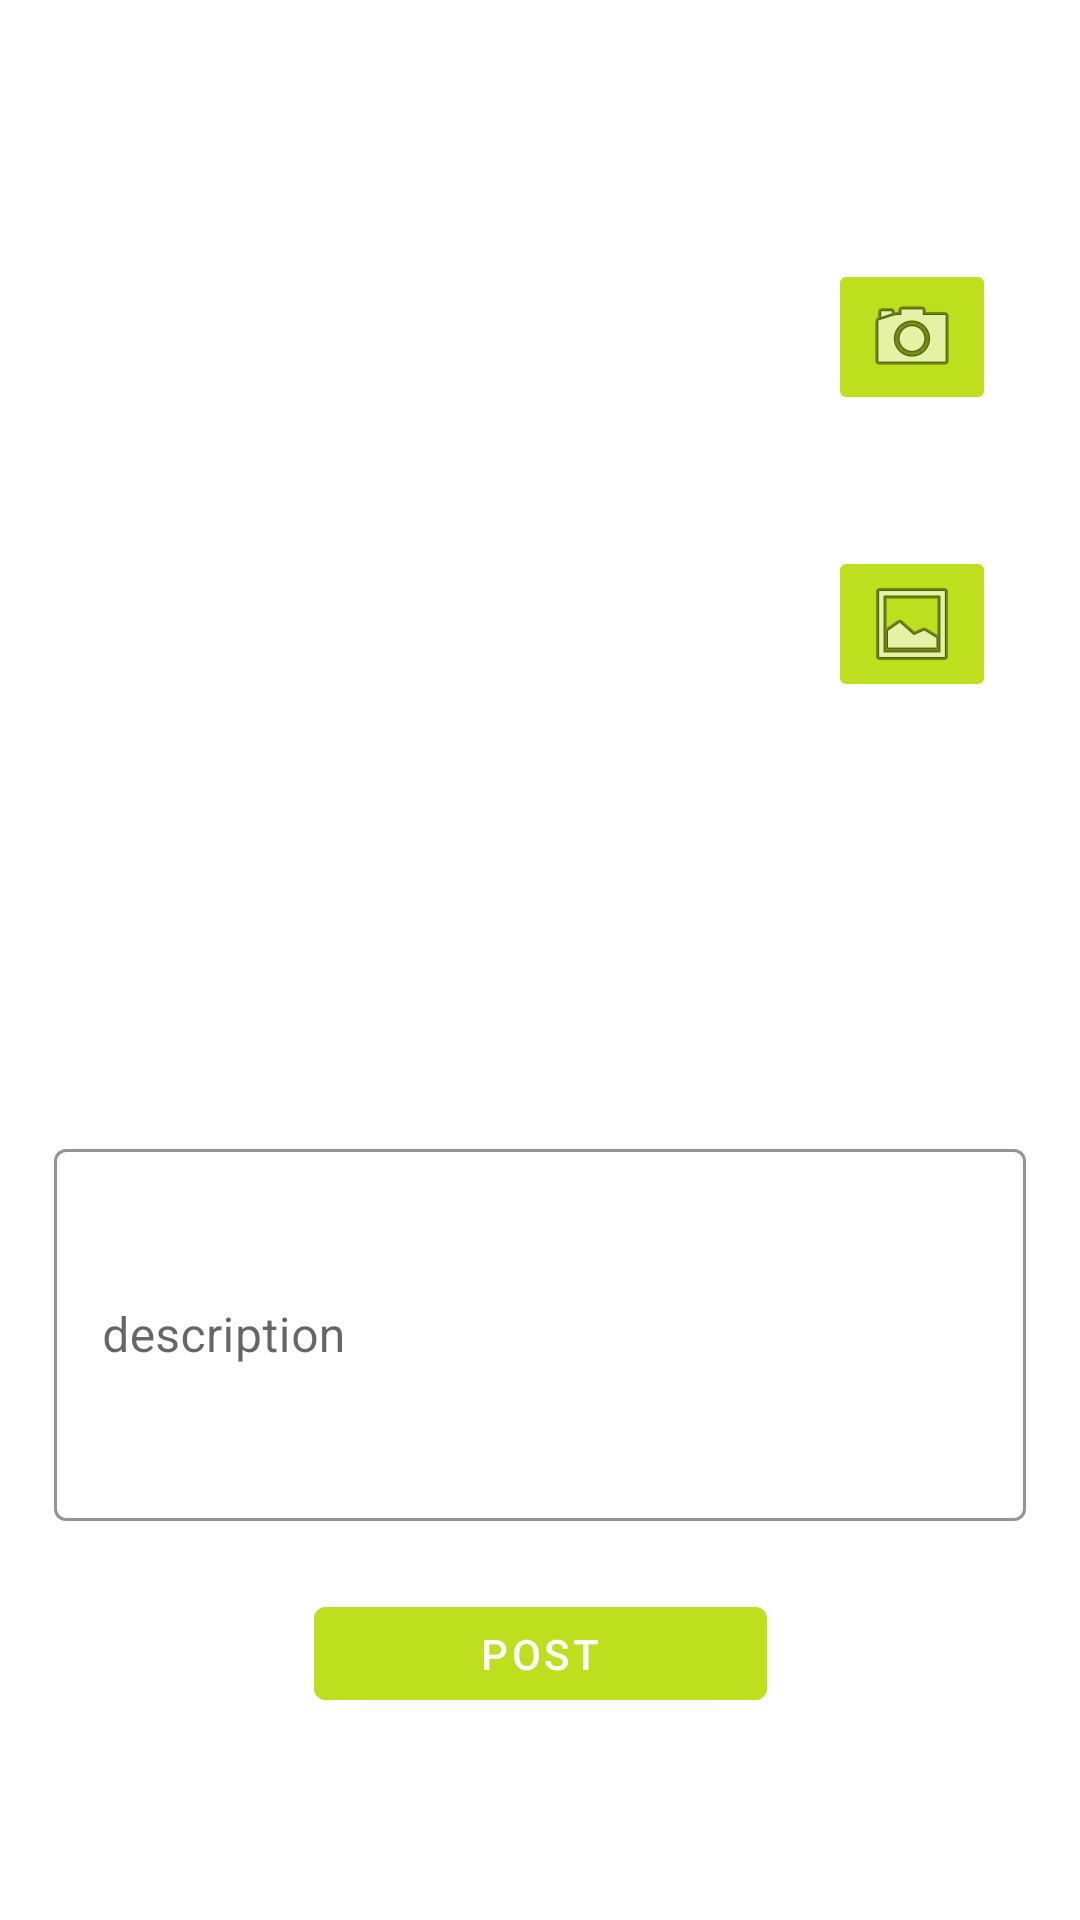

Icon click points for this 1080*1920 phone screenshot, format point (x, y):
camera: point (912, 337)
gallery: point (912, 624)
